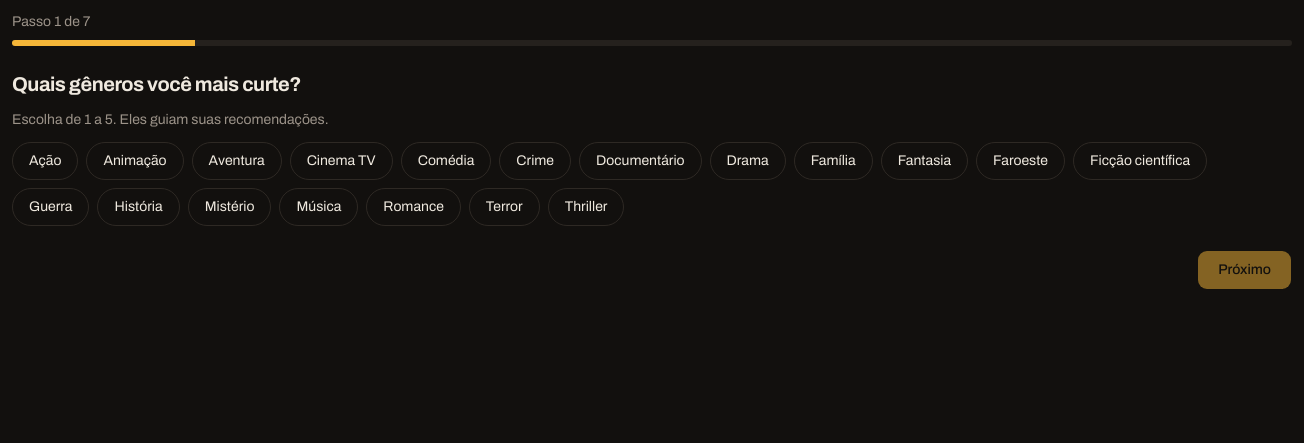
Scenario: OnboardingWizard › Voltar mantém as escolhas
The width and height of the screenshot is (1304, 443).
Click the button "Ação".
click(45, 161)  # box [12,142,78,180]
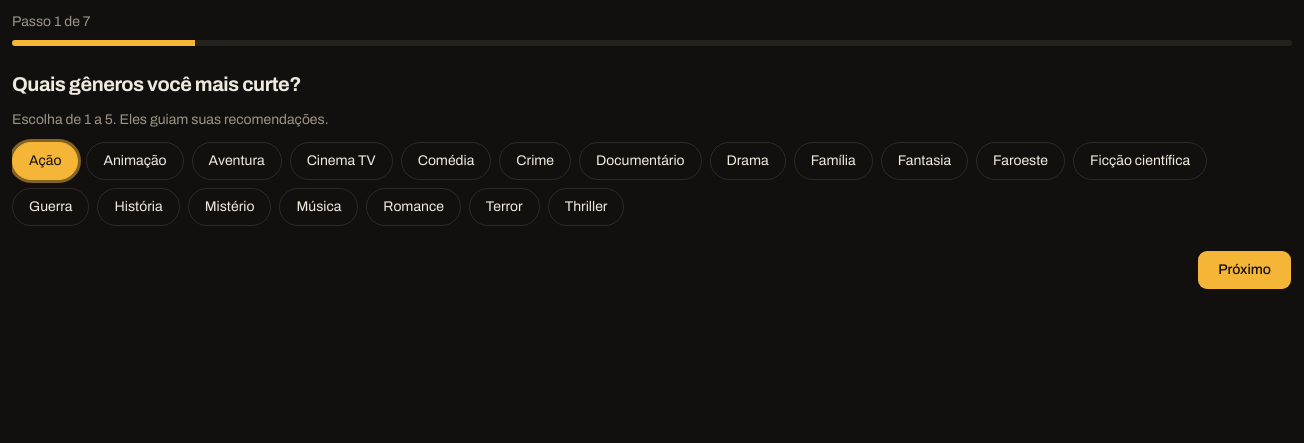
Click the button "Próximo".
click(1245, 270)  # box [1197,250,1292,290]
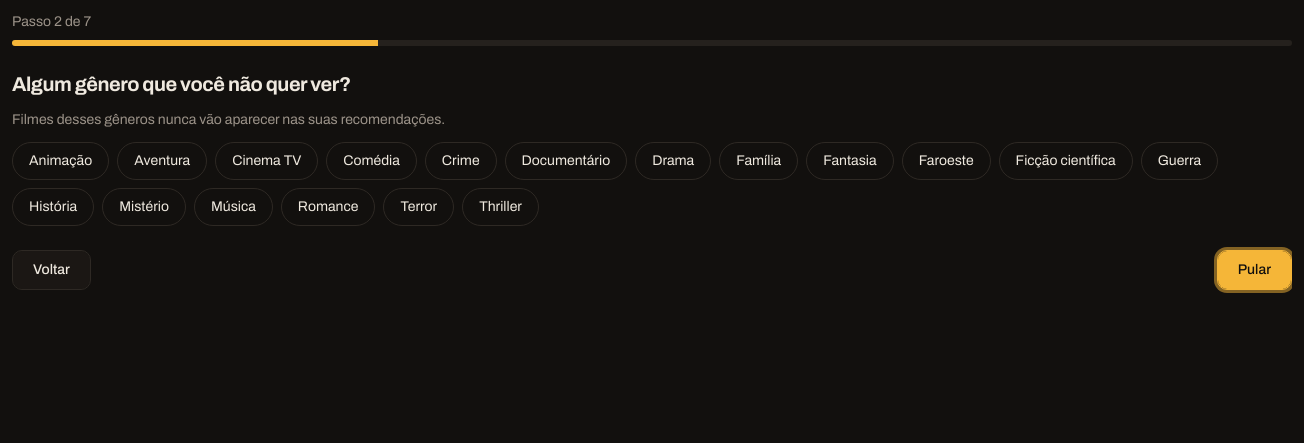
Click the button "Pular".
click(1254, 270)  # box [1217,250,1292,290]
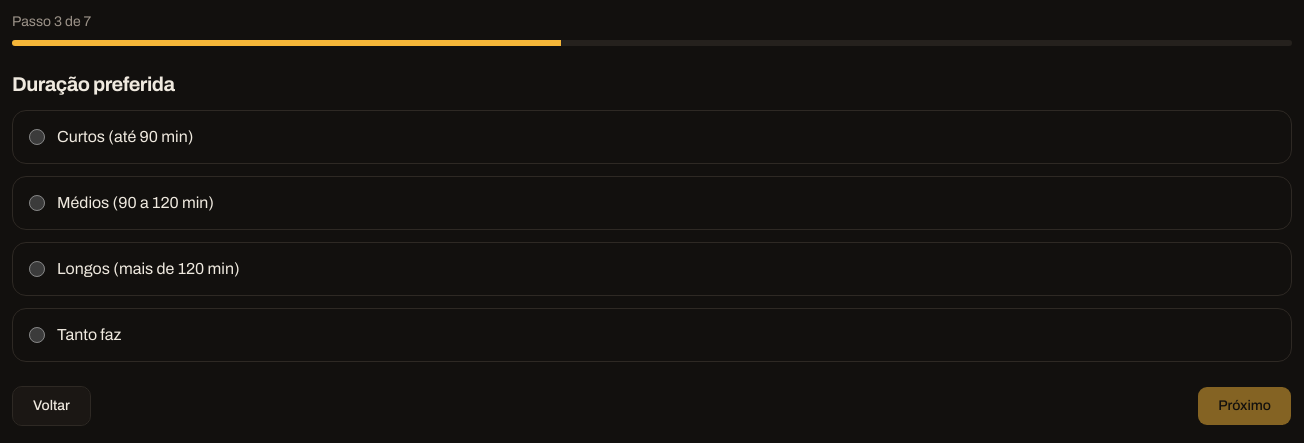
Click the radio button labelled "Tanto faz".
click(37, 335)  # box [29,327,45,343]
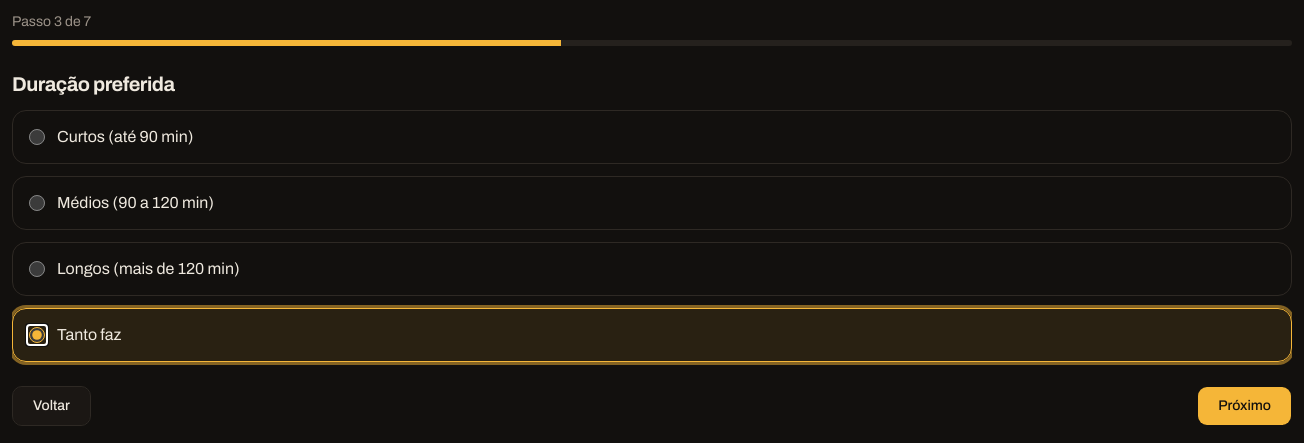
Now the text "Passo 3 de 7" is shown, box [12,14,91,29]
Click the button "Voltar".
click(51, 406)  # box [12,386,91,426]
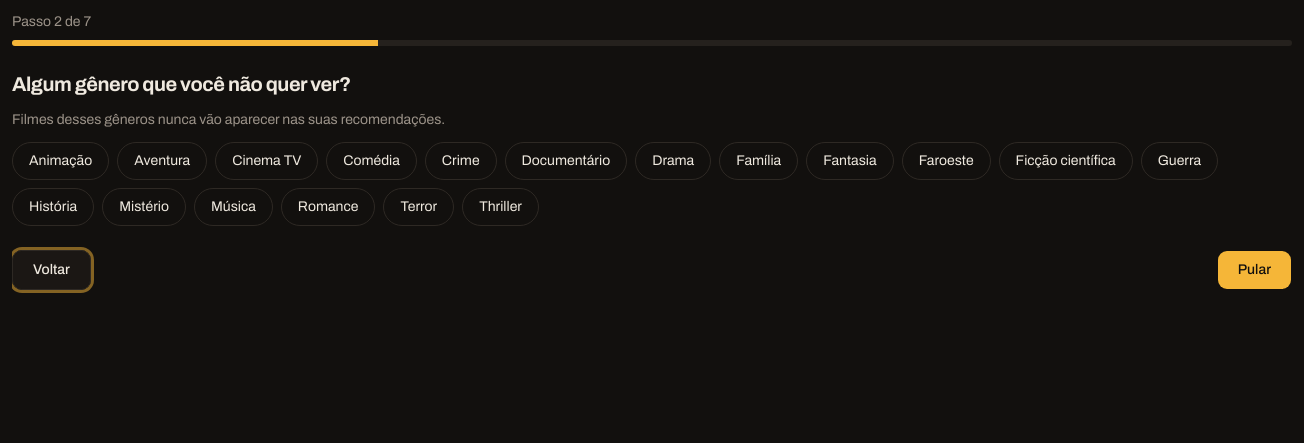
Click the button "Voltar".
click(51, 270)  # box [12,250,91,290]
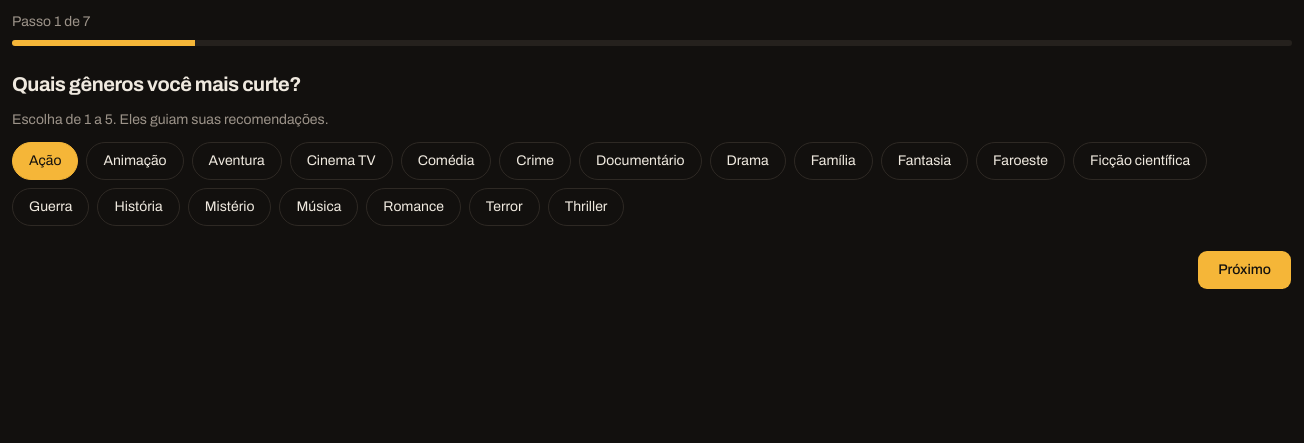
Now the text "Passo 1 de 7" is shown, box [12,14,90,29]
